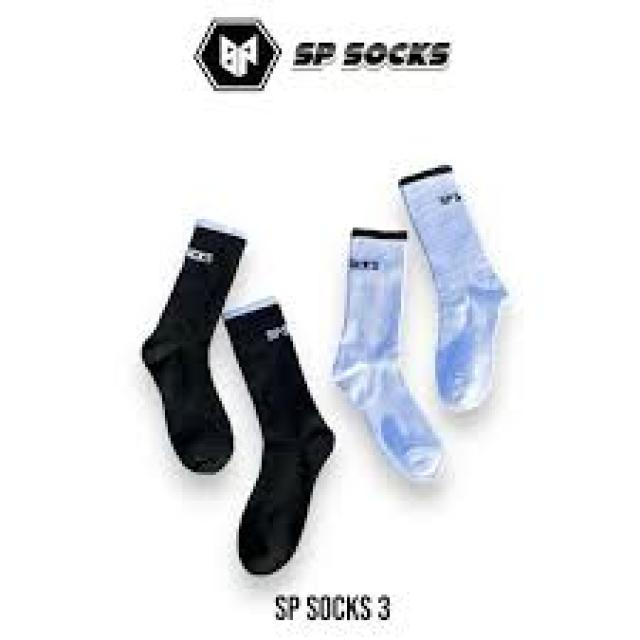sock: (222, 293, 336, 575), (330, 224, 444, 483), (140, 216, 248, 472), (396, 162, 506, 413)
